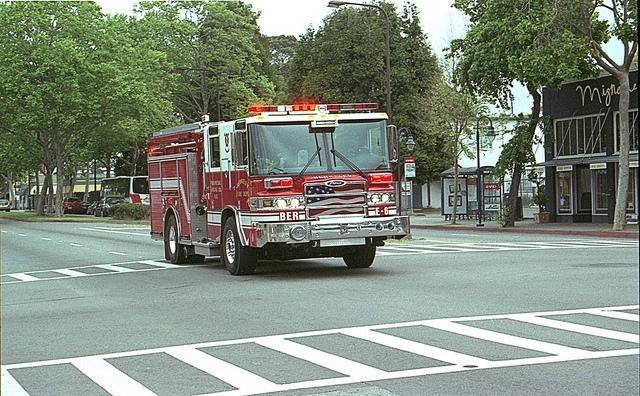bus: (98, 175, 150, 206)
car: (94, 197, 126, 217), (62, 196, 84, 213), (0, 199, 10, 212)
truck: (146, 102, 408, 274)
